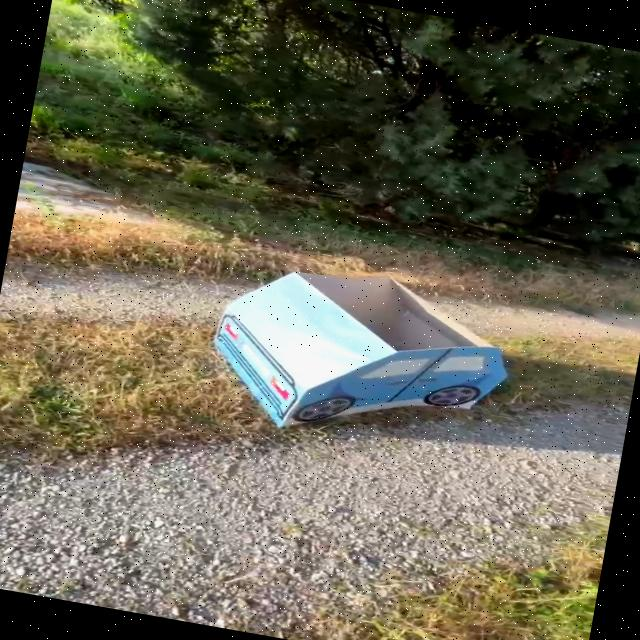blue_car: (166, 235, 544, 487)
